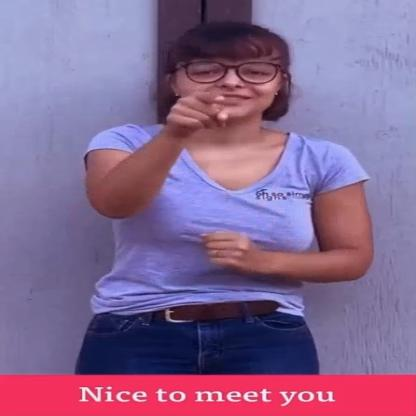NiceToMeetYou: (60, 19, 370, 375)
